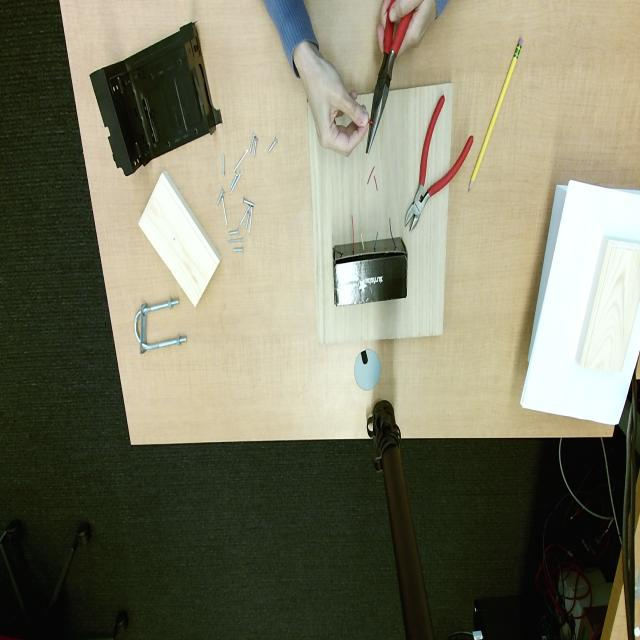pliers: (405, 98, 474, 230), (366, 0, 412, 152)
